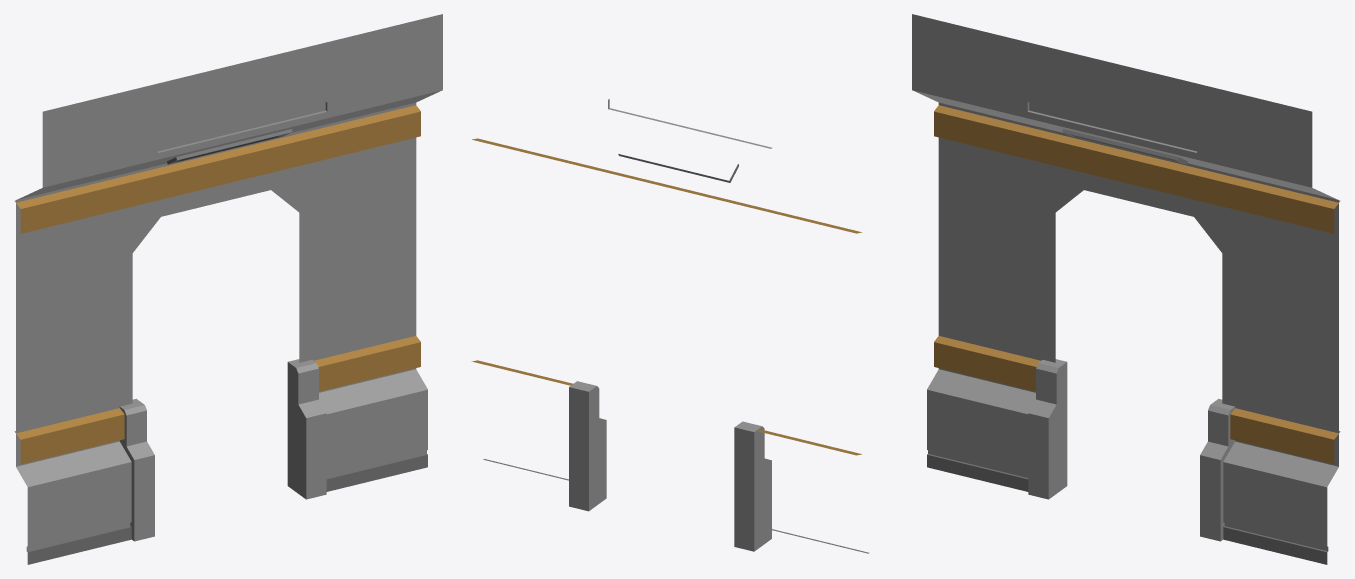
Rendered from DoorSingle_Wall_SideB.glb.
3 views of the same model, side by side, from view 1: azimuth 30°, elevation 25°; view 2: azimuth 150°, elevation 25°; view 3: azimuth 330°, elevation 25° (orthographic). The views are drawn at different scales.
Parts seen in each view (by area): view 1: DoorSingle_Wall_SideB; view 2: DoorSingle_Wall_SideB; view 3: DoorSingle_Wall_SideB.
Boxes of the visible parts, <box> form: DoorSingle_Wall_SideB: <box>14,14,442,564</box>; DoorSingle_Wall_SideB: <box>471,99,869,553</box>; DoorSingle_Wall_SideB: <box>912,14,1340,564</box>.
Bounding box in the file's own units: 4 × 4.43 × 0.5307.
